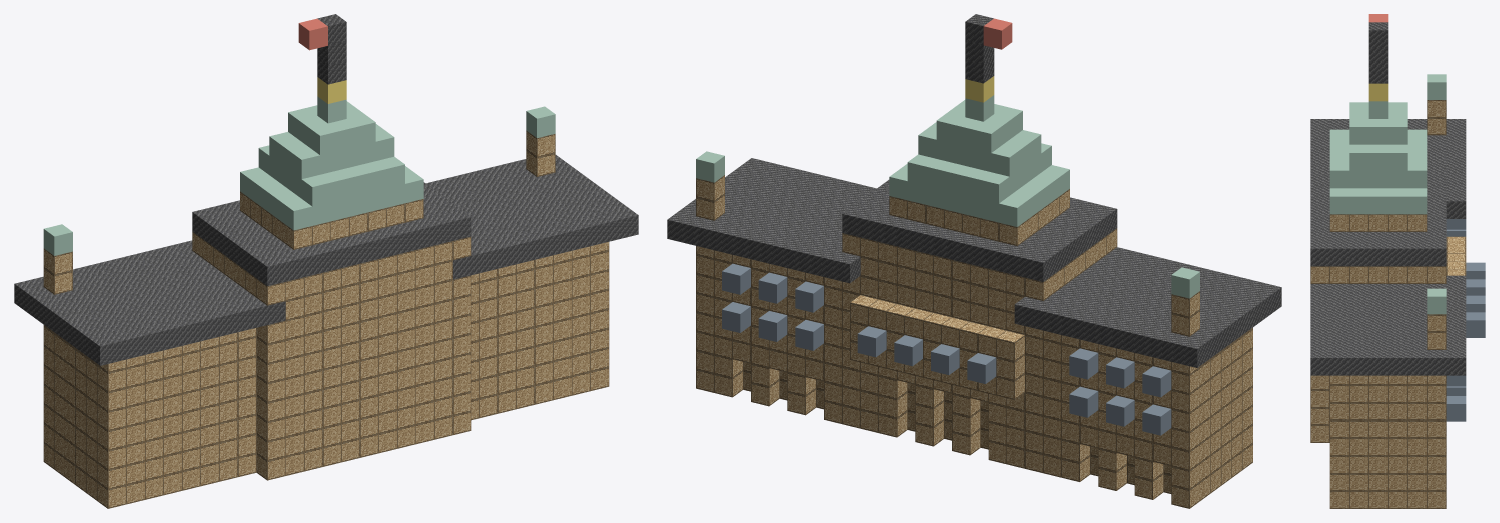
Rendered from bundeshaus.glb.
3 views of the same model, side by side, from view 1: azimuth 30°, elevation 25°; view 2: azimuth 150°, elevation 25°; view 3: azimuth 270°, elevation 25° (orthographic). The views are drawn at different scales.
Parts seen in each view (by area): view 1: bundeshaus; view 2: bundeshaus; view 3: bundeshaus.
Part boxes in pixels (x1,y1,x2,y2): bundeshaus: (14,14,638,508); bundeshaus: (667,14,1281,508); bundeshaus: (1310,14,1485,508).
Size of the model in its own units: 29 by 21 by 9.
1 material, 1 textured.
